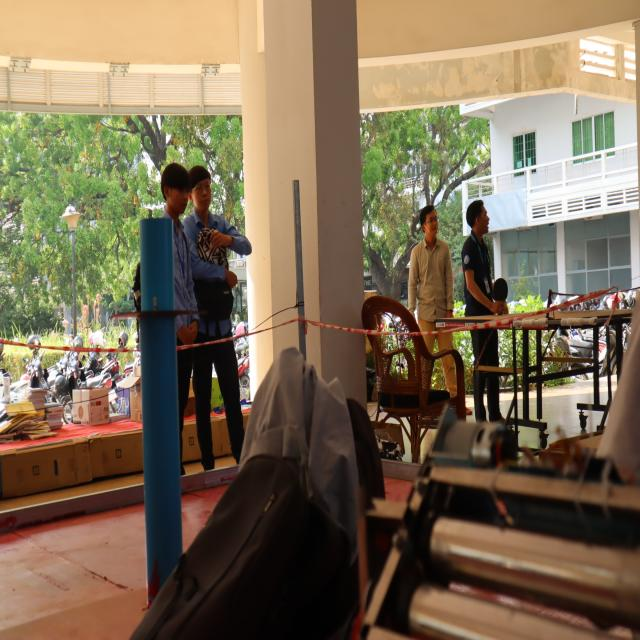pole: (103, 209, 204, 419)
